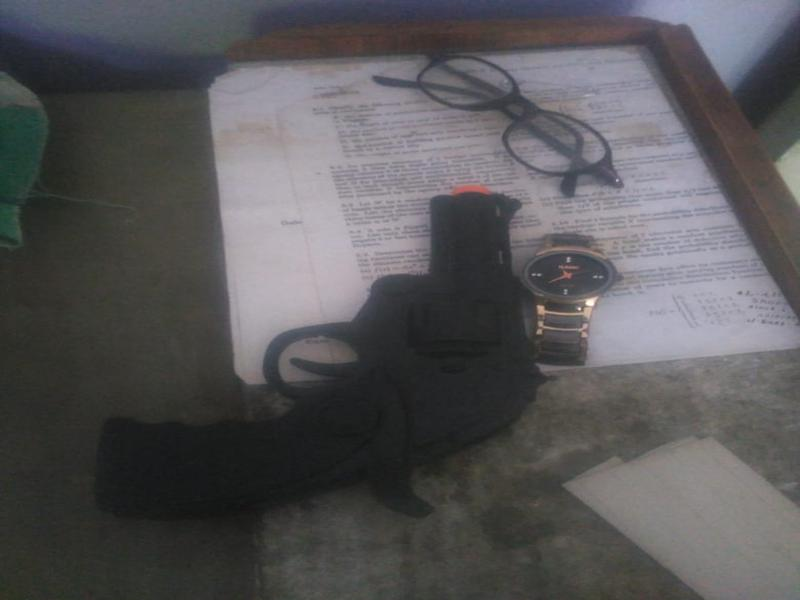gun: (89, 171, 541, 530)
